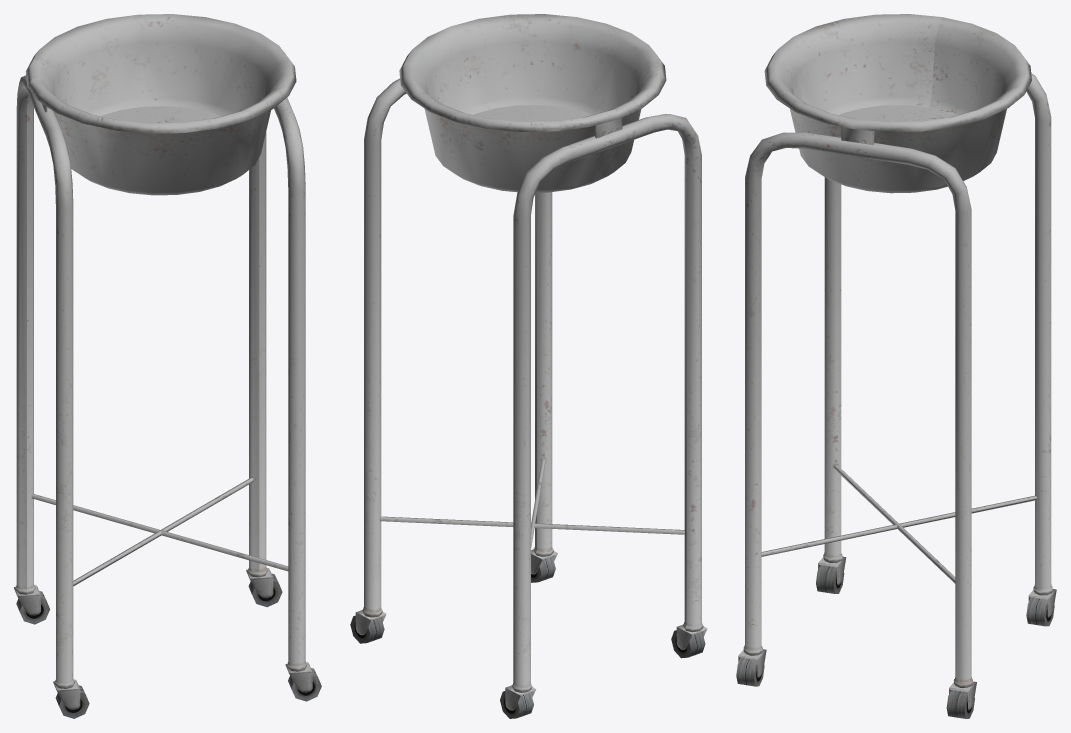
Rendered from basinstand01a.fbx.
3 views of the same model, side by side, from view 1: azimuth 30°, elevation 25°; view 2: azimuth 150°, elevation 25°; view 3: azimuth 270°, elevation 25° (orthographic).
Visible parts, largest first — view 1: basinstand01a; view 2: basinstand01a; view 3: basinstand01a.
Part boxes in pixels (box(x1,y1,x2,y2)): basinstand01a: box(14, 14, 321, 718); basinstand01a: box(350, 14, 707, 718); basinstand01a: box(736, 14, 1056, 718).
Size of the model in its own units: 56.26 by 109 by 54.13.
Materials: 1 (1 with a texture image).
